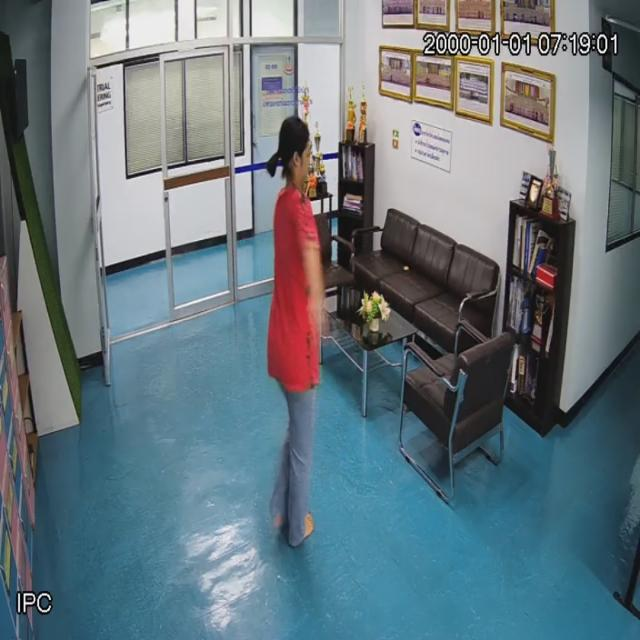normal: (265, 115, 328, 543)
